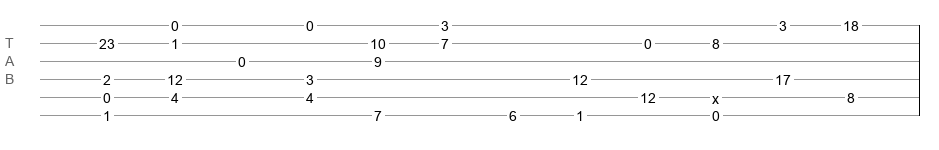0: (103, 90, 111, 100), (171, 18, 179, 28), (238, 54, 246, 64), (306, 18, 314, 28), (644, 36, 652, 46), (712, 108, 720, 118)
1: (103, 108, 111, 118), (171, 36, 179, 46), (576, 108, 584, 118)
10: (370, 36, 386, 46)
12: (167, 72, 183, 82), (572, 72, 588, 82), (640, 90, 656, 100)
17: (775, 72, 791, 82)
18: (843, 18, 859, 28)
2: (103, 72, 111, 82)
23: (99, 36, 115, 46)
3: (306, 72, 314, 82), (441, 18, 449, 28), (779, 18, 787, 28)
4: (171, 90, 179, 100), (306, 90, 314, 100)
6: (509, 108, 517, 118)
7: (374, 108, 382, 118), (441, 36, 449, 46)
8: (712, 36, 720, 46), (847, 90, 855, 100)
9: (374, 54, 382, 64)
x: (712, 91, 719, 99)
